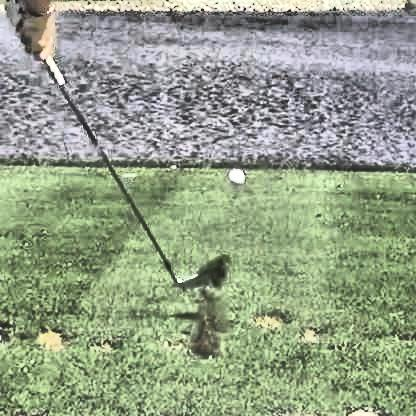golfball: (226, 165, 248, 188)
